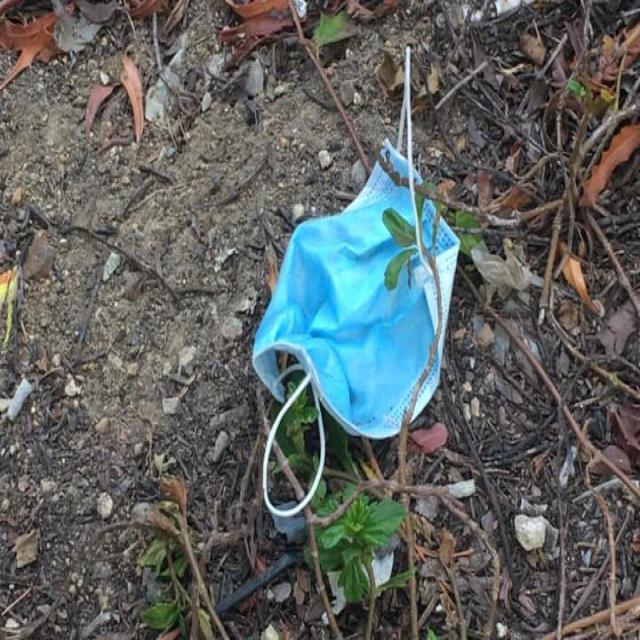face mask: (256, 51, 458, 522)
